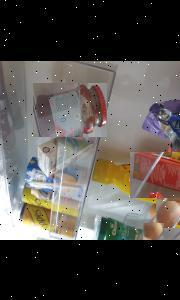Huevos: (156, 200, 180, 227), (143, 222, 164, 240)
Mermelada: (33, 82, 107, 136)
Salsa de tomate: (130, 151, 180, 197)
